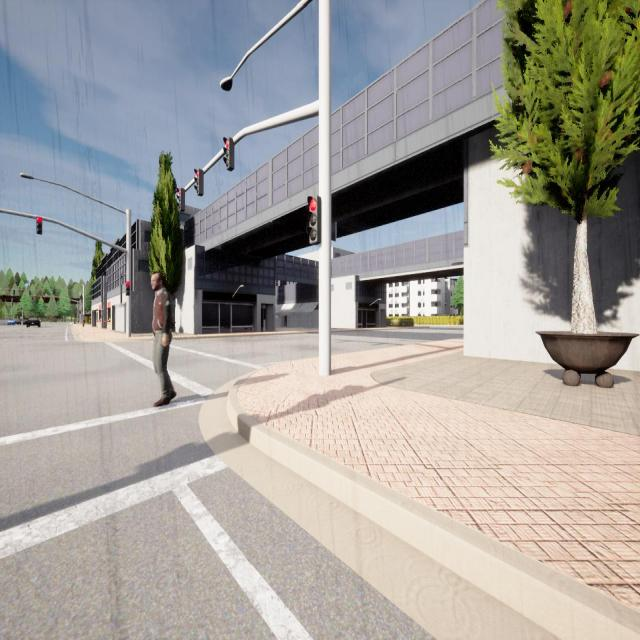Pedestrian: (150, 272, 177, 407), (82, 314, 85, 328)
Vehicle: (27, 317, 40, 328), (14, 318, 22, 326), (7, 319, 15, 326), (22, 318, 28, 326)
traffic_light: (307, 196, 321, 245), (223, 137, 235, 171), (194, 169, 204, 196), (176, 188, 185, 212), (36, 217, 42, 234), (126, 281, 130, 296), (29, 290, 31, 296), (32, 296, 34, 300), (13, 290, 15, 294), (59, 298, 60, 302), (81, 295, 82, 299), (81, 294, 82, 298), (44, 297, 45, 300), (80, 296, 81, 299)
